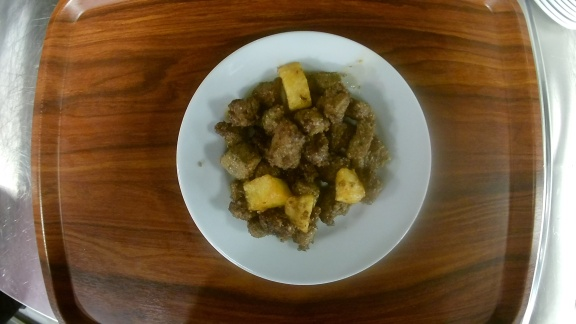arnavutcigeri: (175, 30, 433, 286)
